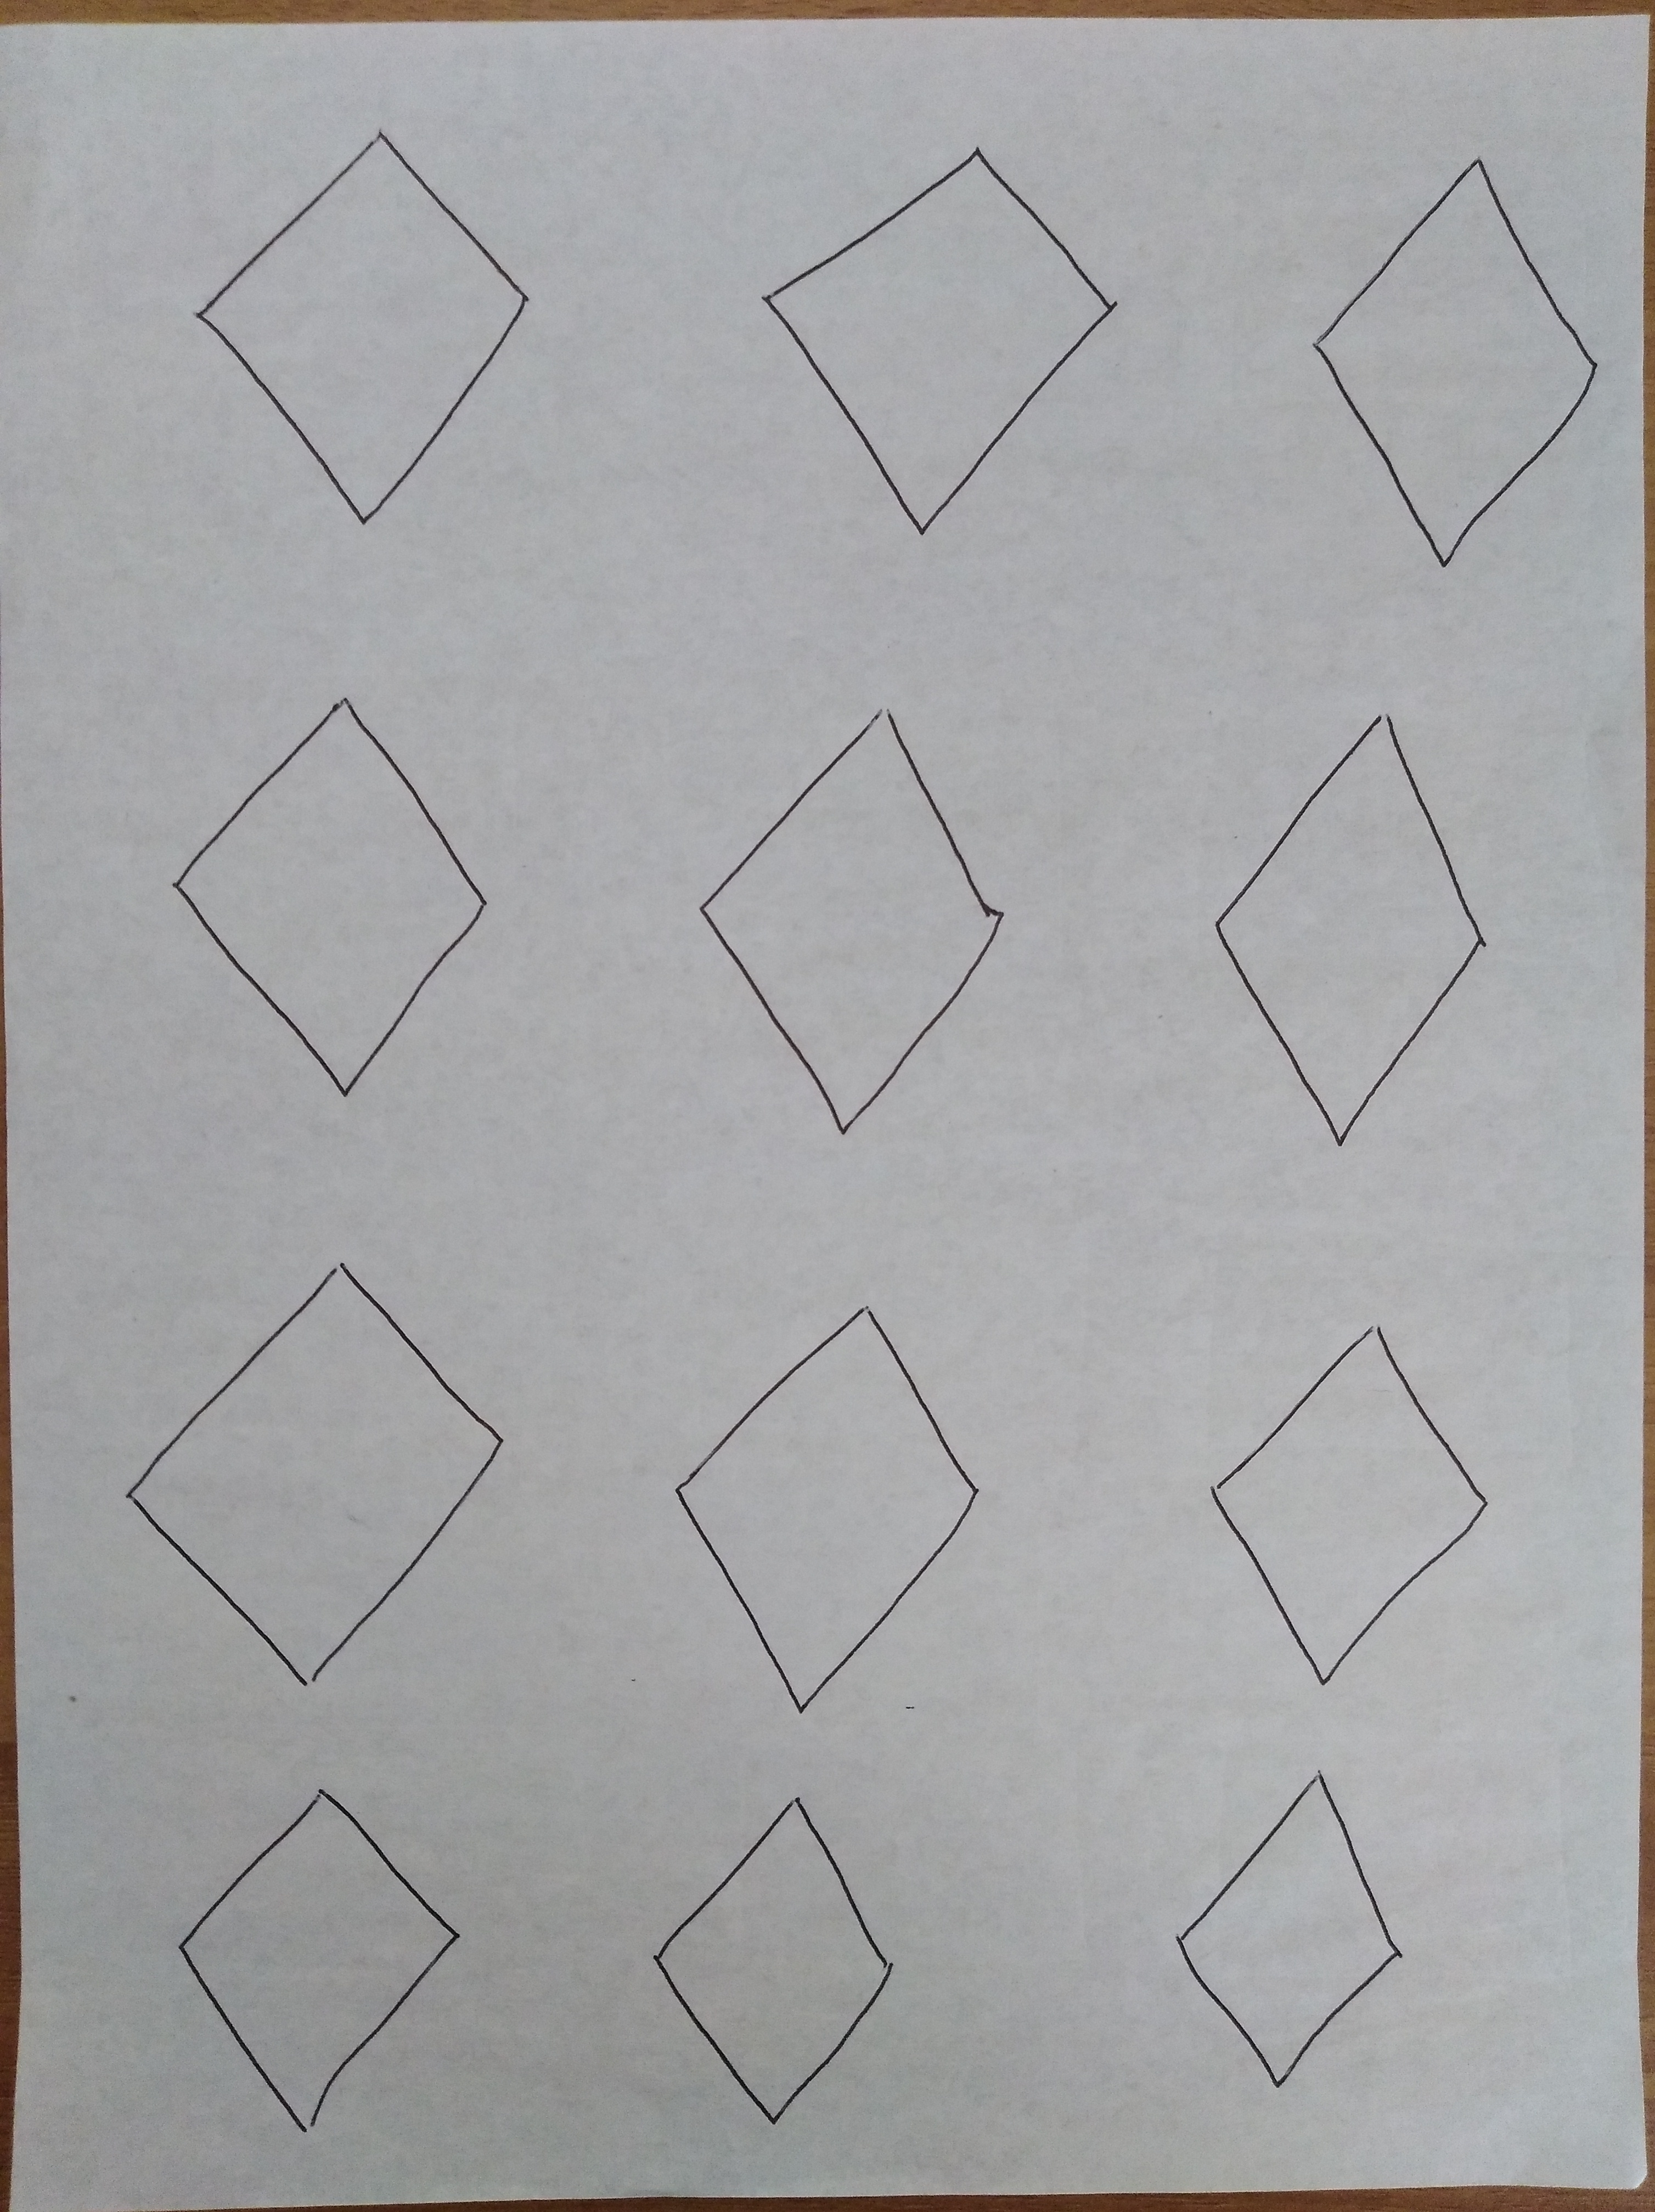decision: (87, 1230, 546, 1706), (130, 641, 544, 1128), (664, 652, 1053, 1161), (141, 96, 562, 556), (748, 103, 1137, 561), (1283, 109, 1618, 605), (1186, 671, 1505, 1189), (640, 1284, 1008, 1729), (139, 1752, 492, 2160), (1184, 1284, 1507, 1706), (636, 1765, 927, 2155), (1158, 1736, 1434, 2116)
